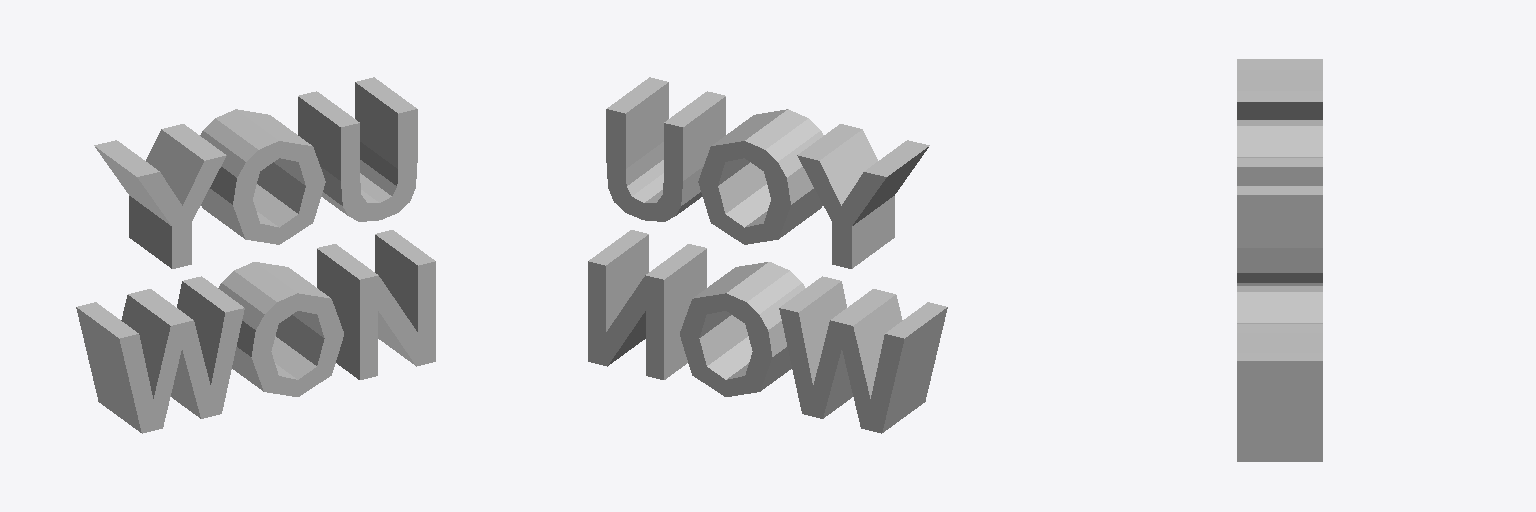
Rendered from won.obj.
3 renders of one model, left to right at view 1: azimuth 30°, elevation 25°; view 2: azimuth 150°, elevation 25°; view 3: azimuth 270°, elevation 25°, orthographic.
Visible parts, largest first — view 1: Won; view 2: Won; view 3: Won.
Boxes of the visible parts, x1,y1,x2,y2 form: Won: [76, 77, 435, 433]; Won: [588, 77, 947, 433]; Won: [1237, 59, 1322, 461].
Bounding box in the file's own units: 211 × 166 × 50.